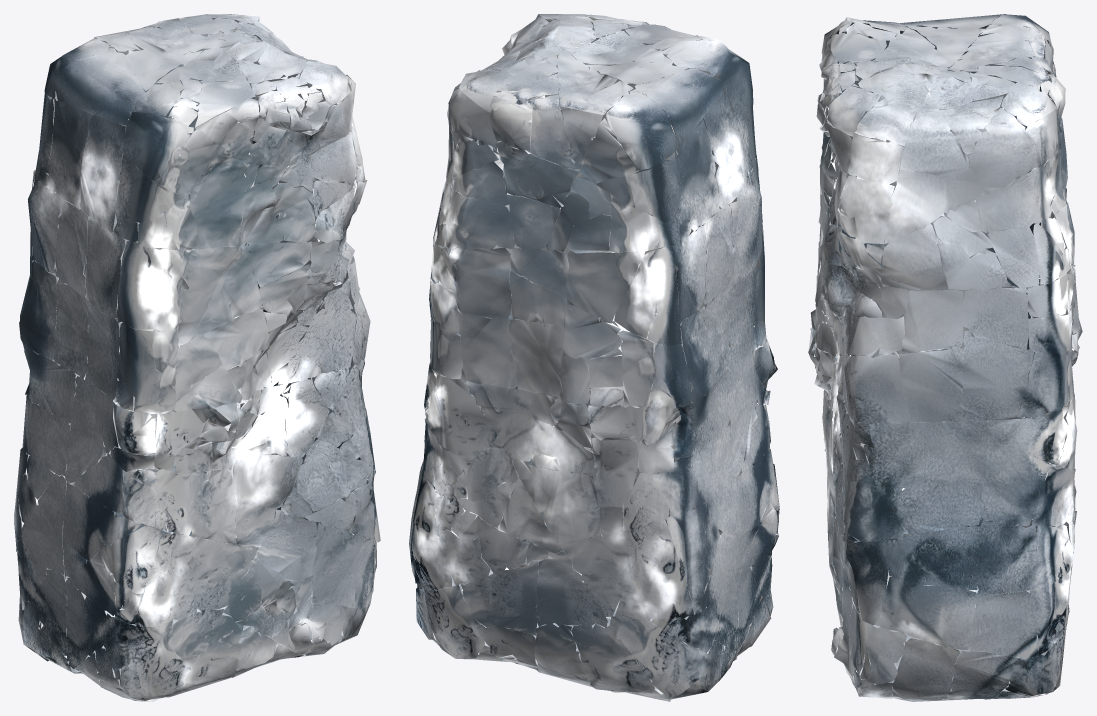
File: WallA.glb
The picture shows the model from 3 angles, left to right: view 1: azimuth 30°, elevation 25°; view 2: azimuth 150°, elevation 25°; view 3: azimuth 270°, elevation 25°; orthographic projection.
Visible parts, largest first — view 1: Mesh_0; view 2: Mesh_0; view 3: Mesh_0.
Part boxes in pixels (x1,y1,x2,y2): Mesh_0: (14, 14, 380, 701); Mesh_0: (409, 14, 779, 701); Mesh_0: (808, 14, 1082, 701).
Size of the model in its own units: 0.99 by 1.9 by 0.7791.
1 material, 1 textured.
